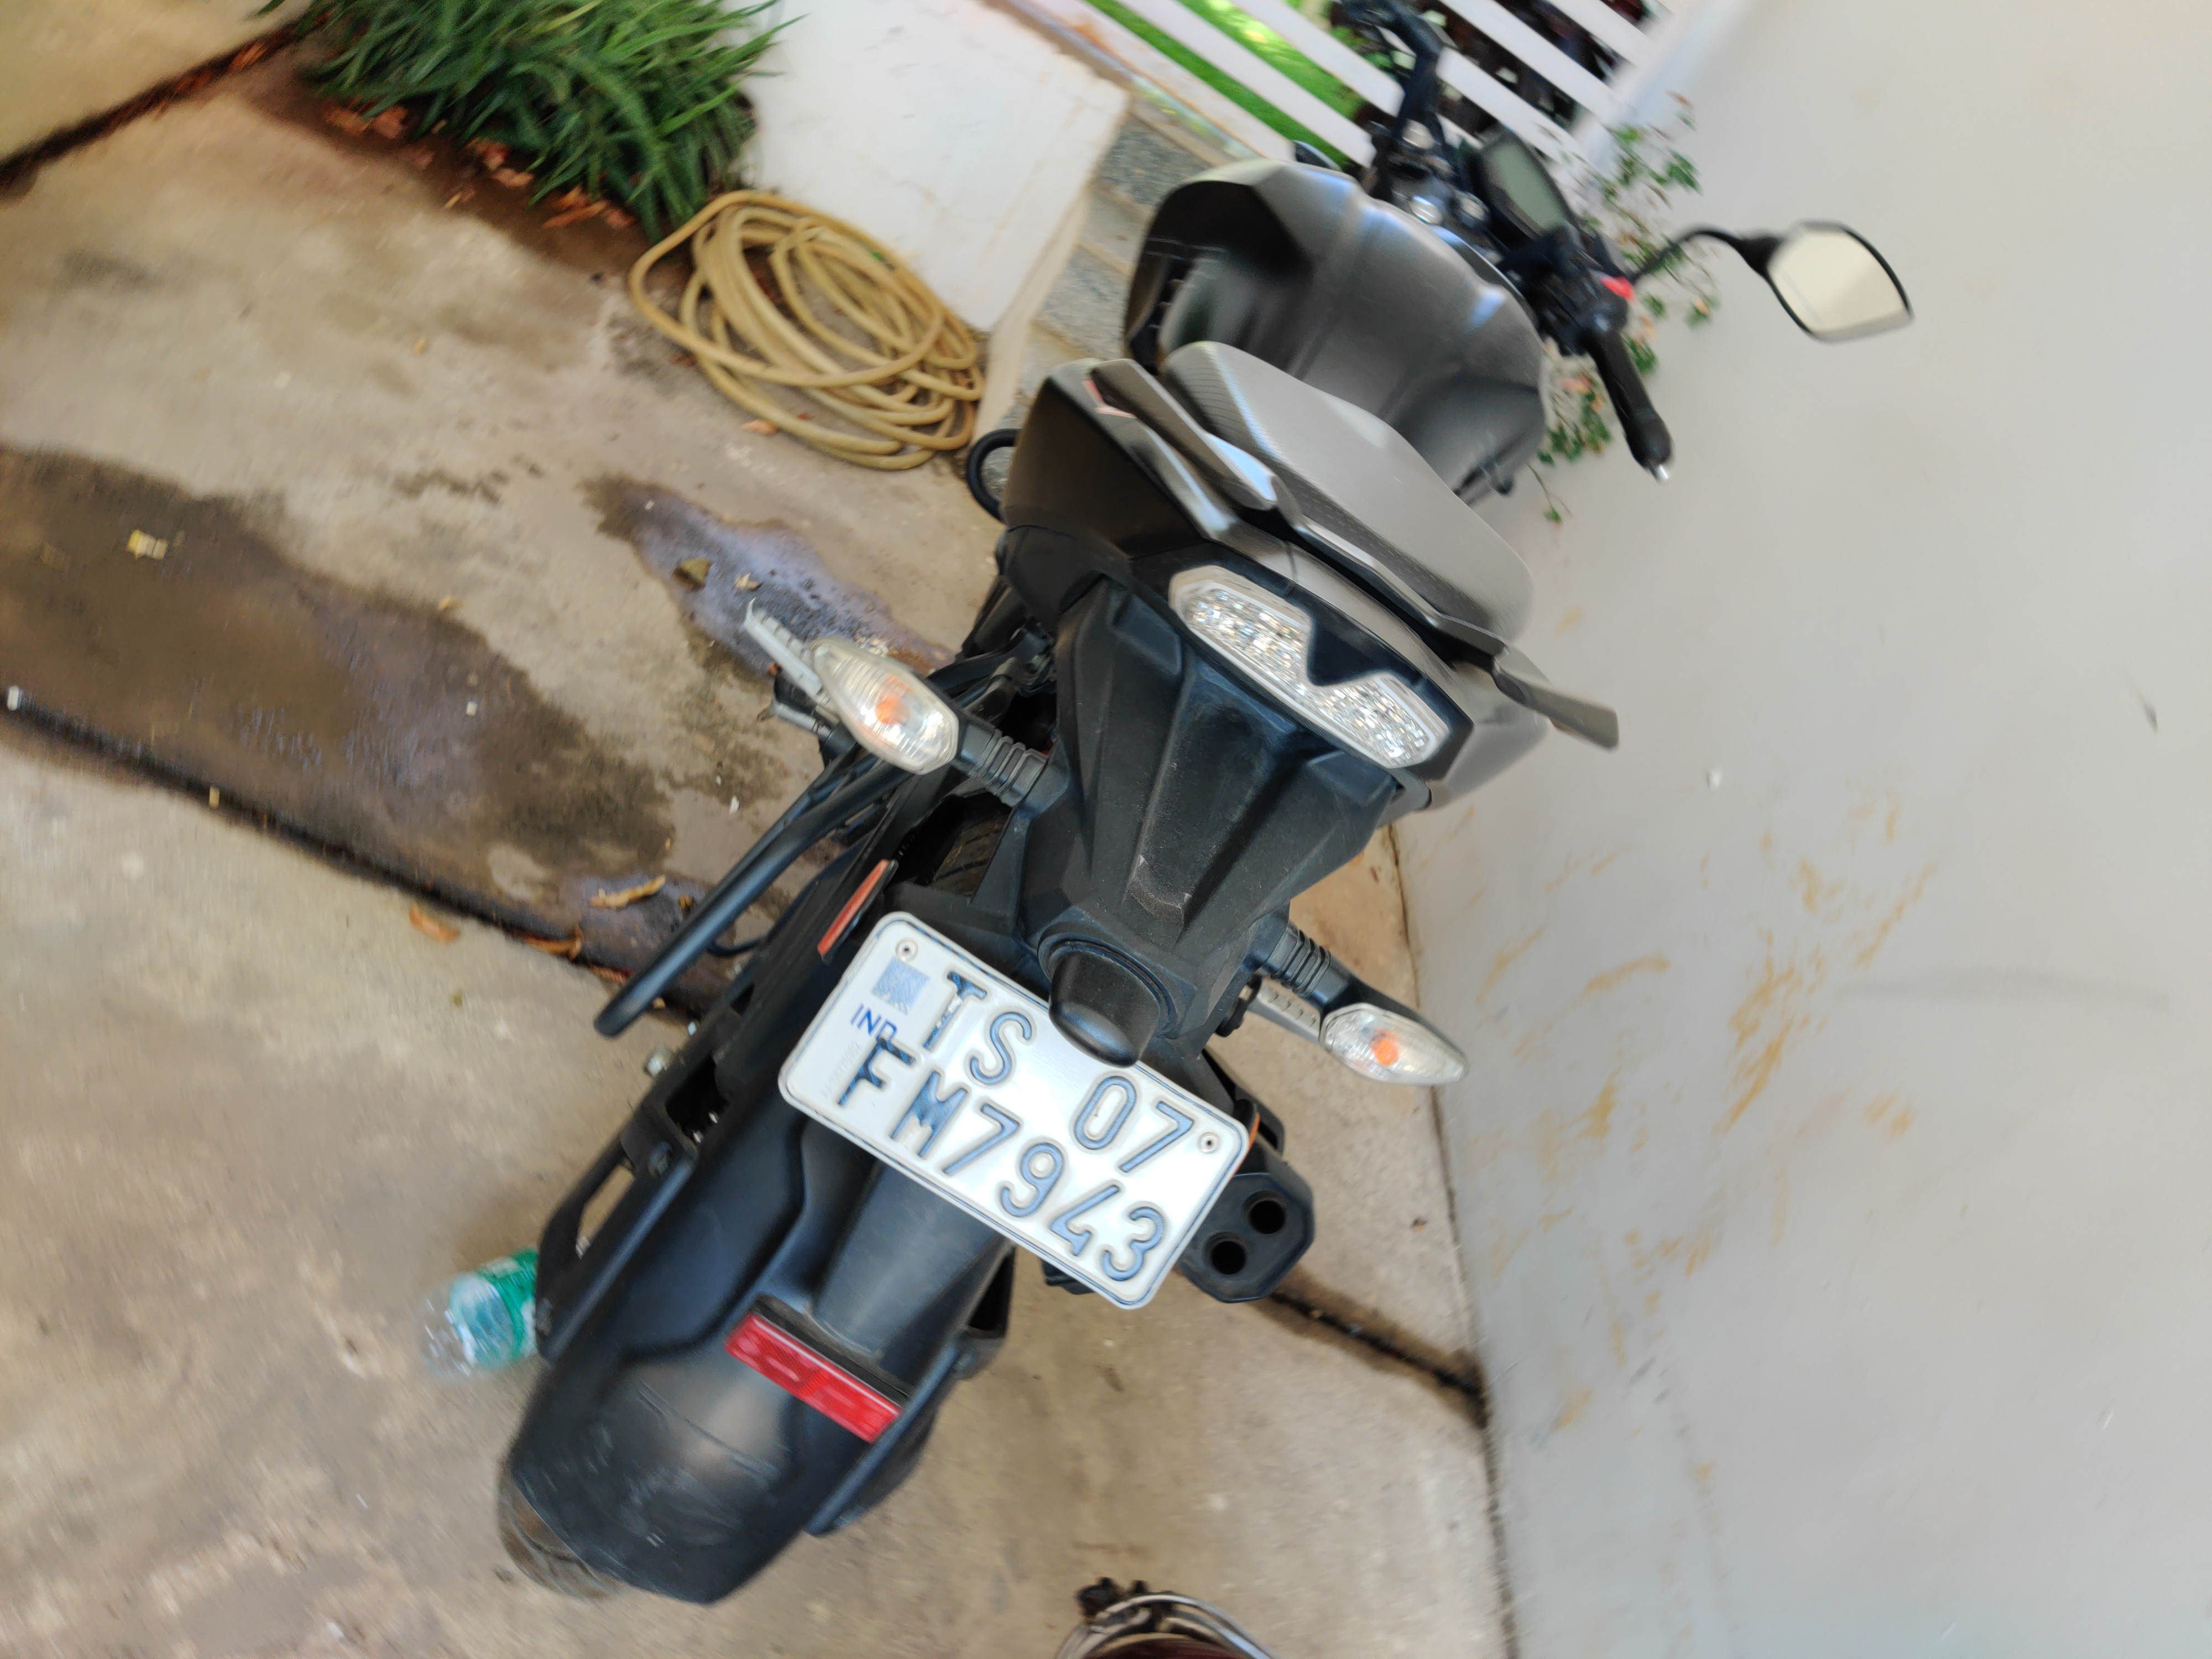plate: (760, 900, 1267, 1338)
